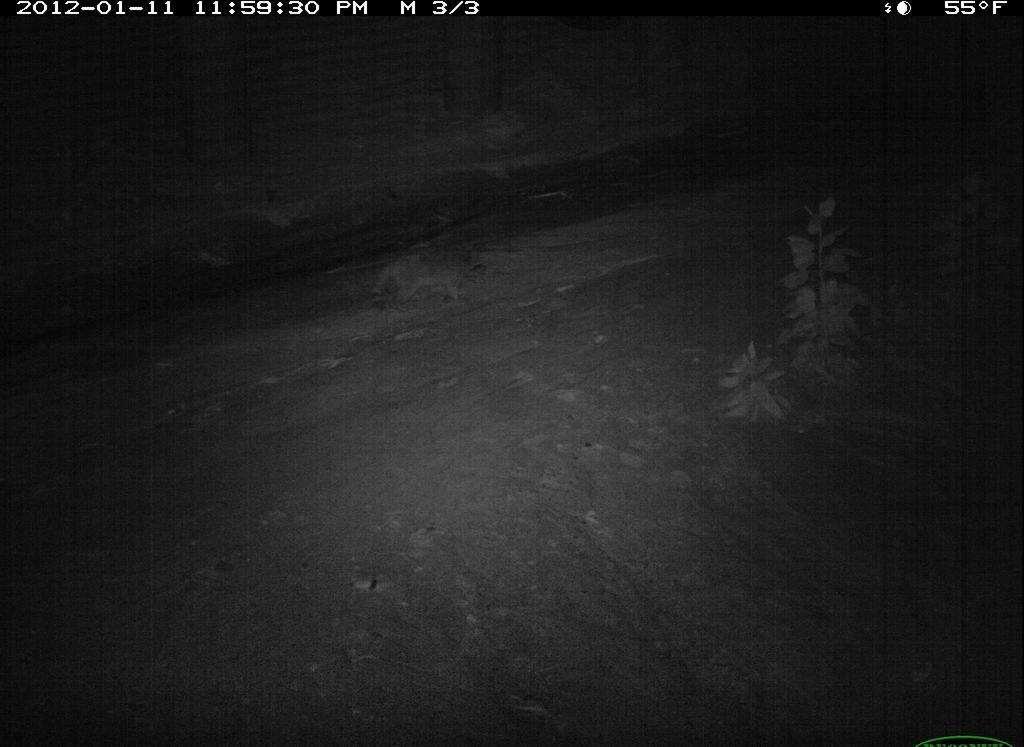raccoon: (360, 230, 500, 321)
